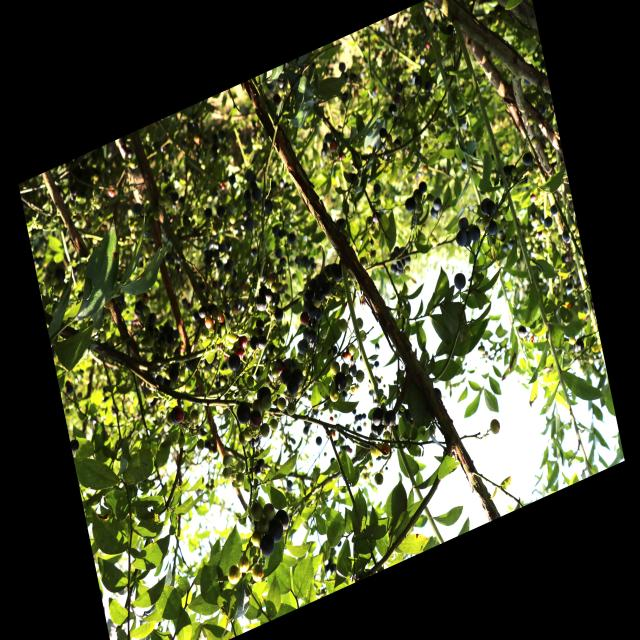blueberry: (272, 506, 292, 537), (268, 516, 286, 546), (258, 532, 276, 560), (235, 402, 252, 426), (332, 369, 348, 394), (256, 384, 274, 406), (467, 222, 483, 245), (452, 269, 468, 292), (226, 352, 240, 375), (291, 366, 305, 389), (454, 228, 469, 249), (457, 213, 471, 233), (295, 338, 308, 358), (484, 199, 498, 217), (281, 368, 293, 388), (286, 379, 299, 397), (404, 196, 416, 215), (256, 334, 269, 351), (249, 335, 261, 353), (431, 195, 443, 213), (306, 330, 318, 345), (308, 306, 318, 320), (308, 319, 318, 331)
blueberry-unripe: (226, 564, 241, 586), (262, 502, 276, 523), (237, 556, 251, 576), (250, 564, 264, 584), (250, 502, 263, 522), (250, 531, 263, 549), (257, 520, 269, 538)
